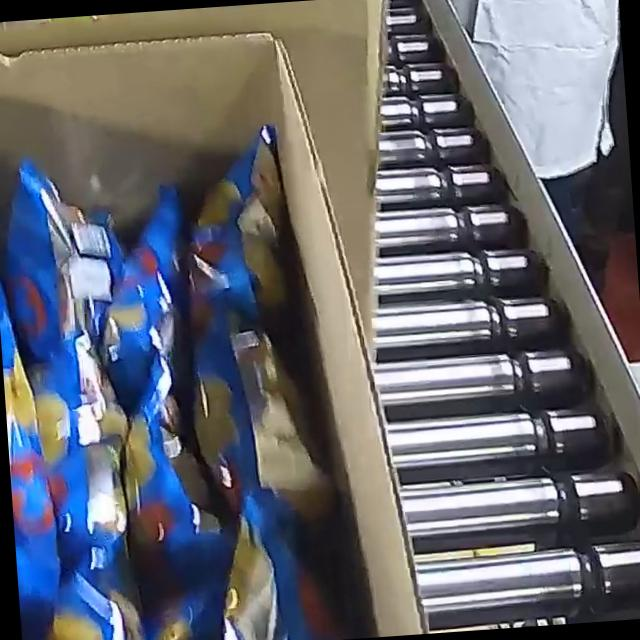paprika: (0, 114, 366, 640)
